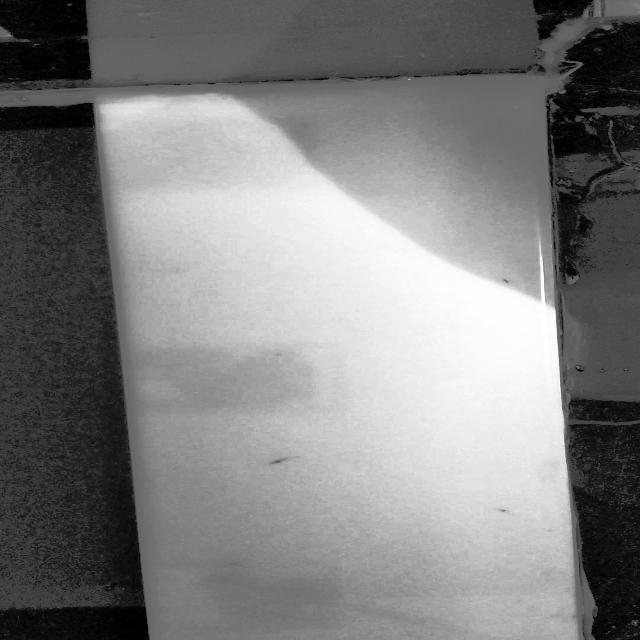shrimp: (254, 452, 299, 472)
